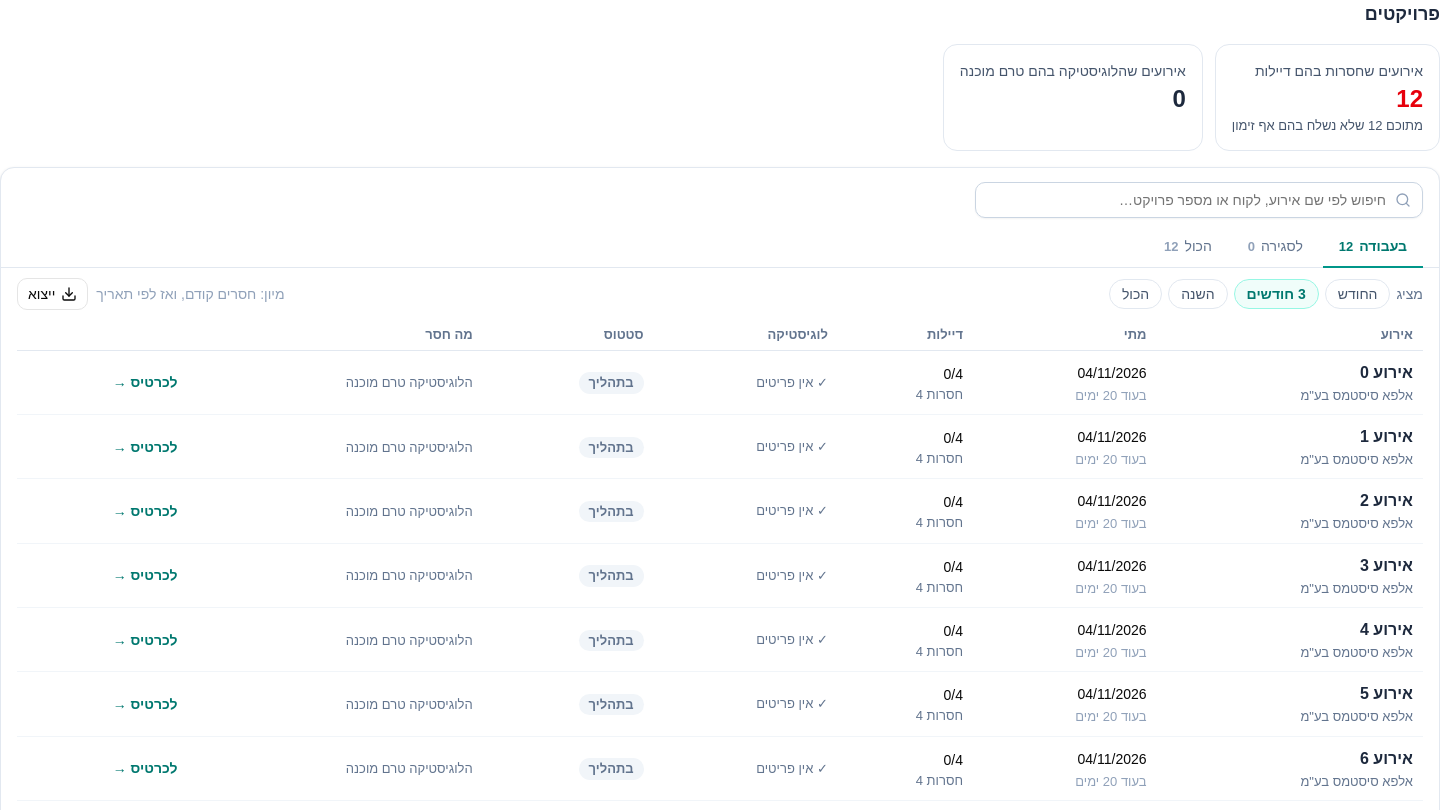
Test: ProjectsPage — חיבור לחלון-הייצוא › שורת-הכמות סופרת את כל מה שעומד במסנן, לא את עמוד-הדפדוף
Click the button with test id "projects-export-button" at (53, 294), box [17,278,88,310]
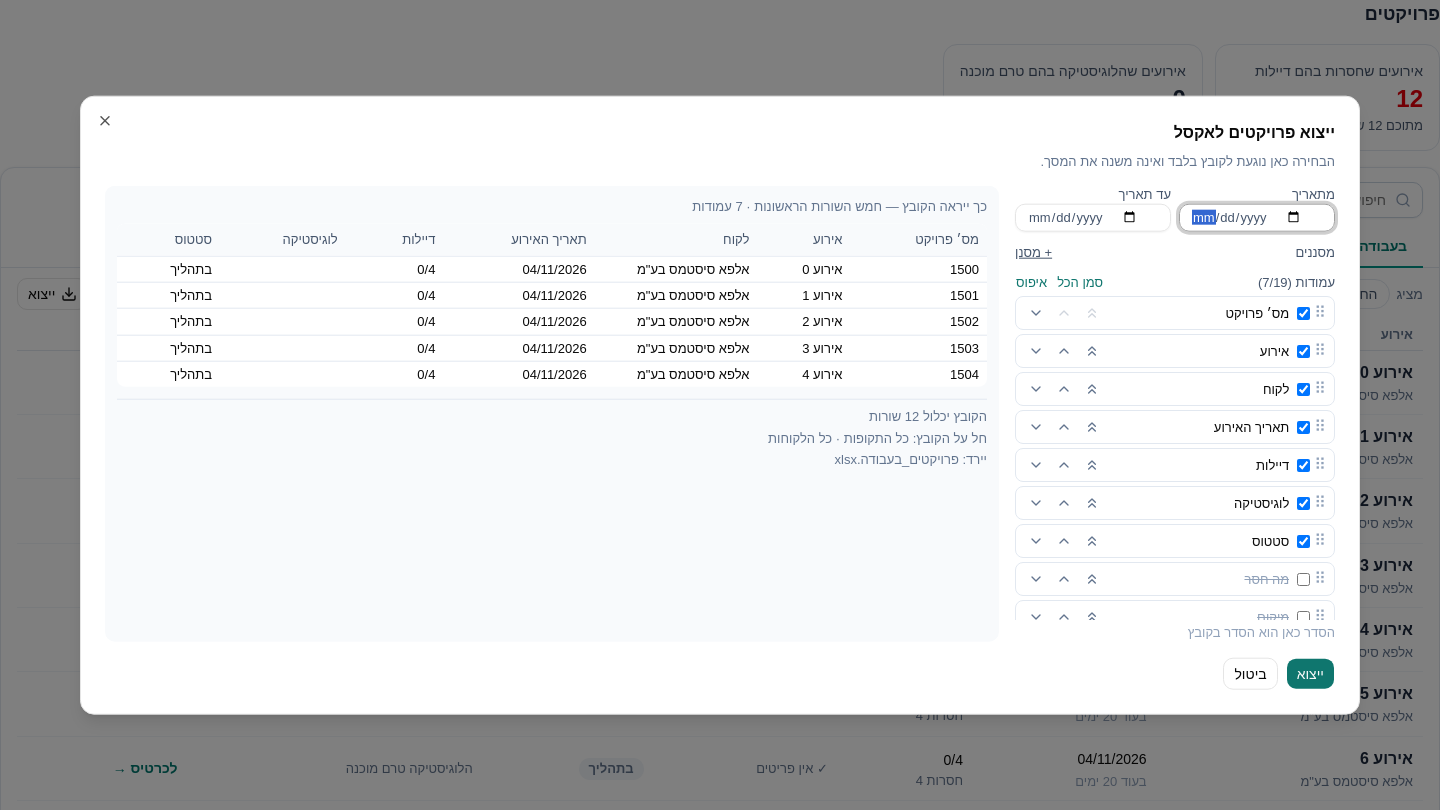
Expected: the text with test id "export-count" shows "12 שורות", [869,409,987,424]
